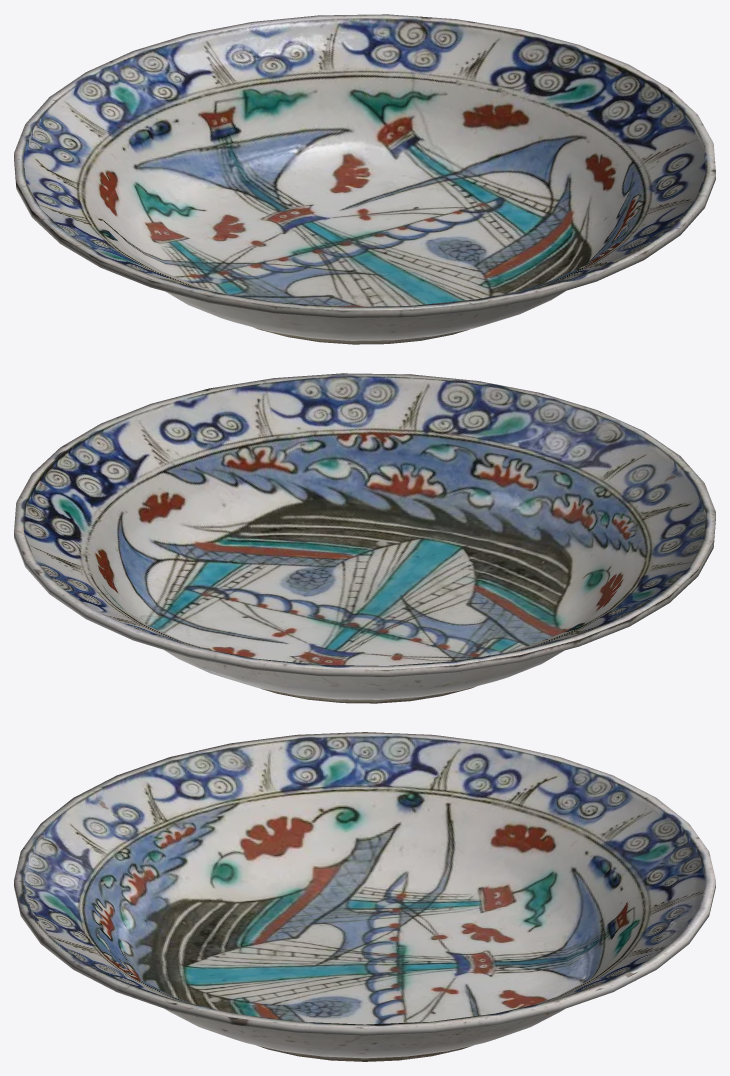
Rendered from dish-v2.glb.
3 views of the same model, one above another, from view 1: azimuth 30°, elevation 25°; view 2: azimuth 150°, elevation 25°; view 3: azimuth 270°, elevation 25° (orthographic).
Parts seen in each view (by area): view 1: Object_3, Object_2; view 2: Object_3, Object_2; view 3: Object_3, Object_2.
Part boxes in pixels (bbox=[...]): Object_3: bbox=[14, 14, 715, 310]; Object_2: bbox=[14, 155, 715, 344]; Object_3: bbox=[14, 373, 715, 669]; Object_2: bbox=[14, 514, 715, 703]; Object_3: bbox=[14, 732, 715, 1028]; Object_2: bbox=[14, 881, 715, 1061].
Size of the model in its own units: 15.22 by 2.65 by 15.22.
2 materials, 2 textured.
